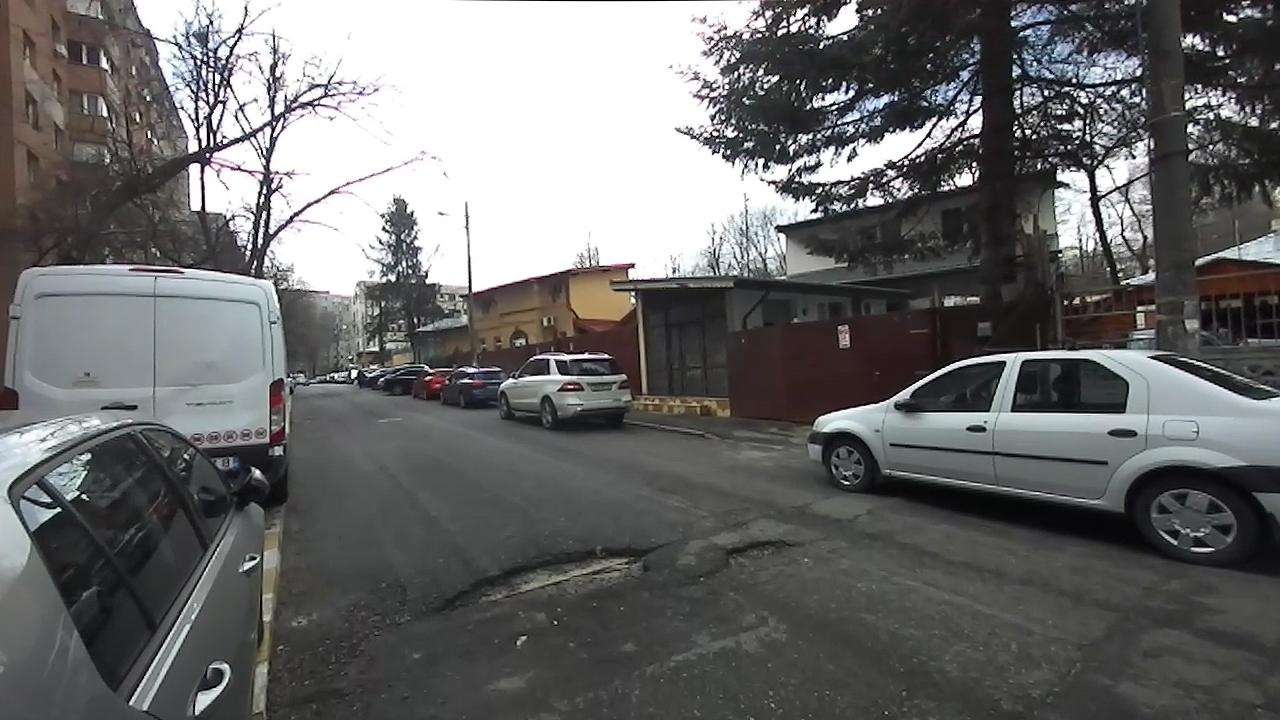pothole: (422, 539, 664, 624), (708, 535, 808, 576)
